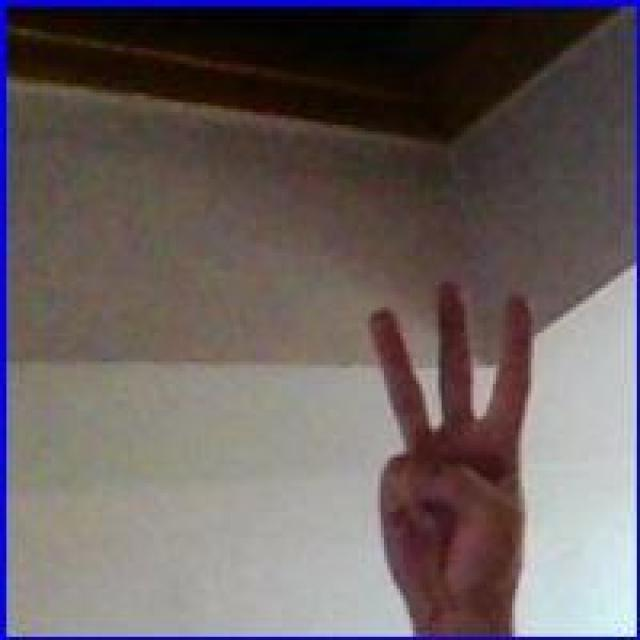W: (360, 270, 546, 613)
